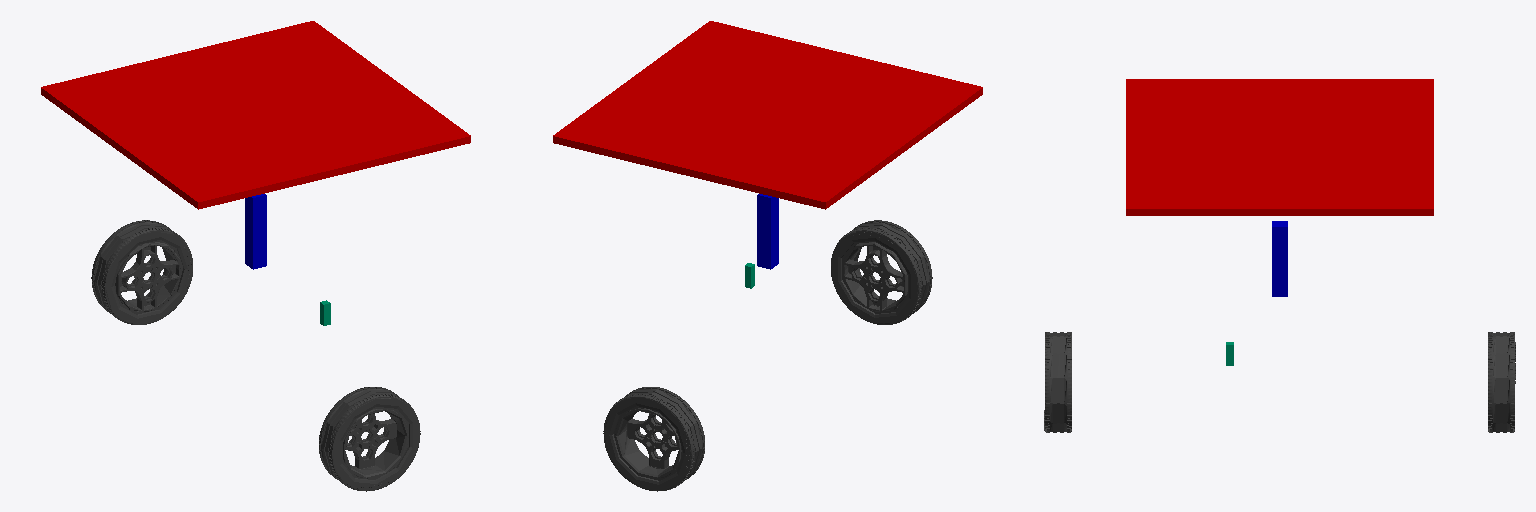
robot.urdf — amazon_robot:
<?xml version="1.0" ?>
<robot name="amazon_robot" xmlns:xacro="http://ros.org/wiki/xacro">
  <!-- <xacro:include filename="$(find turtlebot3_description)/urdf/common_properties.urdf"/>

  <xacro:property name="r200_cam_rgb_px" value="0.005"/>
  <xacro:property name="r200_cam_rgb_py" value="0.018"/>
  <xacro:property name="r200_cam_rgb_pz" value="0.013"/>
  <xacro:property name="r200_cam_depth_offset" value="0.01"/> -->

  <!-- Init colour -->
  <material name="black">
      <color rgba="0.0 0.0 0.0 1.0"/>
  </material>

  <material name="dark">
    <color rgba="0.3 0.3 0.3 1.0"/>
  </material>

  <material name="light_black">
    <color rgba="0.4 0.4 0.4 1.0"/>
  </material>

  <material name="blue">
    <color rgba="0.0 0.0 0.8 1.0"/>
  </material>

  <material name="green">
    <color rgba="0.0 0.8 0.0 1.0"/>
  </material>

  <material name="grey">
    <color rgba="0.5 0.5 0.5 1.0"/>
  </material>

  <material name="orange">
    <color rgba="1.0 0.4235 0.0392 1.0"/>
  </material>

  <material name="brown">
    <color rgba="0.8706 0.8118 0.7647 1.0"/>
  </material>

  <material name="red">
    <color rgba="0.8 0.0 0.0 1.0"/>
  </material>

  <material name="white">
    <color rgba="1.0 1.0 1.0 1.0"/>
  </material>

  <link name="base_footprint"/>

  <joint name="base_joint" type="fixed">
    <parent link="base_footprint"/>
    <child link="base_link" />
    <origin xyz="0 0 0.010" rpy="0 0 0"/>
  </joint>

  <link name="base_link">
    <visual>
      <origin xyz="-0.064 0 0.0" rpy="0 0 0"/>
      <geometry>
        <mesh filename="package://amazon_robot/meshes/bases/waffle_pi_base.stl" scale="1 1 1"/>
      </geometry>
      <material name="orange"/>
    </visual>

    <collision>
      <origin xyz="-0.064 0 0.047" rpy="0 0 0"/>
      <geometry>
        <box size="0.532 0.532 0.188"/>
      </geometry>
    </collision>

    <inertial>
      <origin xyz="0 0 0" rpy="0 0 0"/>
      <mass value="1.3729096e+00"/>
      <inertia ixx="8.7002718e-03" ixy="-4.7576583e-05" ixz="1.1160499e-04"
               iyy="8.6195418e-03" iyz="-3.5422299e-06"
               izz="1.4612727e-02" />
    </inertial>
  </link>

  <joint name="wheel_left_joint" type="continuous">
    <parent link="base_link"/>
    <child link="wheel_left_link"/>
    <origin xyz="0.0 0.288 0.023" rpy="-1.57 0 0"/>
    <axis xyz="0 0 1"/>
  </joint>

  <link name="wheel_left_link">
    <visual>
      <origin xyz="0 0 0" rpy="1.57 0 0"/>
      <geometry>
        <mesh filename="package://amazon_robot/meshes/wheels/left_tire.stl" scale="0.002 0.002 0.002"/>
      </geometry>
      <material name="dark"/>
    </visual>

    <collision>
      <origin xyz="0 0 0" rpy="0 0 0"/>
      <geometry>
        <cylinder length="0.020" radius="0.072"/>
      </geometry>
    </collision>

    <inertial>
      <origin xyz="0 0 0" />
      <mass value="2.8498940e-02" />
      <inertia ixx="1.1175580e-05" ixy="-4.2369783e-11" ixz="-5.9381719e-09"
               iyy="1.1192413e-05" iyz="-1.4400107e-11"
               izz="2.0712558e-05" />
      </inertial>
  </link>

  <joint name="wheel_right_joint" type="continuous">
    <parent link="base_link"/>
    <child link="wheel_right_link"/>
    <origin xyz="0.0 -0.288 0.023" rpy="-1.57 0 0"/>
    <axis xyz="0 0 1"/>
  </joint>

  <link name="wheel_right_link">
    <visual>
      <origin xyz="0 0 0" rpy="1.57 0 0"/>
      <geometry>
        <mesh filename="package://amazon_robot/meshes/wheels/right_tire.stl" scale="0.002 0.002 0.002"/>
      </geometry>
      <material name="dark"/>
    </visual>

    <collision>
      <origin xyz="0 0 0" rpy="0 0 0"/>
      <geometry>
        <cylinder length="0.020" radius="0.072"/>
      </geometry>
    </collision>

    <inertial>
      <origin xyz="0 0 0" />
      <mass value="2.8498940e-02" />
      <inertia ixx="1.1175580e-05" ixy="-4.2369783e-11" ixz="-5.9381719e-09"
               iyy="1.1192413e-05" iyz="-1.4400107e-11"
               izz="2.0712558e-05" />
      </inertial>
  </link>



  <joint name="caster_back_right_joint" type="fixed">
    <parent link="base_link"/>
    <child link="caster_back_right_link"/>
    <origin xyz="-0.268 -0.064 -0.016" rpy="-1.57 0 0"/>
  </joint>

  <link name="caster_back_right_link">
    <collision>
      <origin xyz="0 0.001 0" rpy="0 0 0"/>
      <geometry>
        <box size="0.060 0.018 0.040"/>
      </geometry>
    </collision>

    <inertial>
      <origin xyz="0 0 0" />
      <mass value="0.005" />
      <inertia ixx="0.001" ixy="0.0" ixz="0.0"
               iyy="0.001" iyz="0.0"
               izz="0.001" />
    </inertial>
  </link>

  <joint name="caster_back_left_joint" type="fixed">
    <parent link="base_link"/>
    <child link="caster_back_left_link"/>
    <origin xyz="-0.268 0.064 -0.016" rpy="-1.57 0 0"/>
  </joint>

  <link name="caster_back_left_link">
    <collision>
      <origin xyz="0 0.001 0" rpy="0 0 0"/>
      <geometry>
        <box size="0.060 0.018 0.040"/>
      </geometry>
    </collision>

    <inertial>
      <origin xyz="0 0 0" />
      <mass value="0.005" />
      <inertia ixx="0.001" ixy="0.0" ixz="0.0"
               iyy="0.001" iyz="0.0"
               izz="0.001" />
    </inertial>
  </link>

  <joint name="imu_joint" type="fixed">
    <parent link="base_link"/>
    <child link="imu_link"/>
    <origin xyz="0.0 0 0.136" rpy="0 0 0"/>
  </joint>

  <link name="imu_link"/>

  <joint name="scan_joint" type="fixed">
    <parent link="base_link"/>
    <child link="base_scan"/>
    <origin xyz="-0.064 0 0.244" rpy="0 0 0"/>
  </joint>

  <link name="base_scan">
    <visual>
      <origin xyz="0 0 0.0" rpy="0 0 0"/>
      <geometry>
        <mesh filename="package://amazon_robot/meshes/sensors/lds.stl" scale="0.002 0.002 0.002"/>
      </geometry>
      <material name="dark"/>
    </visual>

    <collision>
      <origin xyz="0.015 0 -0.0065" rpy="0 0 0"/>
      <geometry>
        <cylinder length="0.0315" radius="0.055"/>
      </geometry>
    </collision>

    <inertial>
      <mass value="0.114" />
      <origin xyz="0 0 0" />
      <inertia ixx="0.001" ixy="0.0" ixz="0.0"
               iyy="0.001" iyz="0.0"
               izz="0.001" />
    </inertial>
  </link>


  <joint name="camera_joint" type="fixed">
    <origin xyz="0.064 -0.065 0.094" rpy="0 0 0"/>
    <parent link="base_link"/>
    <child link="camera_link"/>
  </joint>


<link name="link_platform_mid">
    <origin xyz="0 0 0.0" rpy="0 0 0"/>

    <visual>
      <geometry>
        <box size="0.02 0.02 0.10" />
      </geometry>
      <material name="blue"/>
    </visual>
    <collision>
      <geometry>
        <box size="0.02 0.02 0.10" />
      </geometry>
    </collision>

    <inertial>
      <mass value="1"/>
      <inertia
              ixx="1.0" ixy="0.0" ixz="0.0"
              iyy="1.0" iyz="0.0"
              izz="1.0"/>
    </inertial>

  </link>
  <joint name="platform_joint" type="fixed">
    <parent link="base_link" />
    <child link="link_platform_mid" />
    <origin xyz="0.0 0 0.20" rpy="0. 0. 0."/>
  </joint>


  <link name="lift_link">
    <origin xyz="0 0 0.0" rpy="0 0 0"/>

    <visual>
      <geometry>
        <box size="0.40 0.40 0.01" />
      </geometry>
      <material name="red"/>
    </visual>
    <collision>
      <geometry>
        <box size="0.40 0.40 0.01" />
      </geometry>
    </collision>
    <inertial>
      <mass value="1"/>
      <inertia
              ixx="1.0" ixy="0.0" ixz="0.0"
              iyy="1.0" iyz="0.0"
              izz="1.0"/>
    </inertial>
  </link>

  <joint name="lift_joint" type="prismatic" >
  <origin xyz="0 0 0.16" rpy="0. 0. 0."/>
    <child link="lift_link" />
    <parent link="link_platform_mid" />
    <axis xyz="0 0 1" rpy="0 0 0"/>
    <limit effort="10000.0" lower="-0.05" upper="0.24" velocity="0.5"/>
<!--    <inertia ixx="0" ixy="0.0" ixz="1" iyy="0" iyz="0" izz="0"/>-->
  </joint>




  <link name="camera_link">
    <visual>
     <origin xyz="0 0 0" rpy="1.57 0 1.57"/>
      <geometry>
        <box size="0.01 0.03 0.01" />
      </geometry>
    </visual>
    <collision>
      <origin xyz="0.003 0.065 0.007" rpy="0 0 0"/>
      <geometry>
        <box size="0.012 0.132 0.020"/>
      </geometry>
    </collision>

    <!-- This inertial field needs doesn't contain reliable data!! -->
<!--   <inertial>
      <mass value="0.564" />
      <origin xyz="0 0 0" />
      <inertia ixx="0.003881243" ixy="0.0" ixz="0.0"
               iyy="0.000498940" iyz="0.0"
               izz="0.003879257" />
    </inertial>-->
  </link>

  <joint name="camera_rgb_joint" type="fixed">
    <origin xyz="0.005 0.018 0.013" rpy="0 0 0"/>
    <!-- <origin xyz="${r200_cam_rgb_px} ${r200_cam_rgb_py} ${r200_cam_rgb_pz}" rpy="0 0 0"/> -->
    <parent link="camera_link"/>
    <child link="camera_rgb_frame"/>
  </joint>
  <link name="camera_rgb_frame"/>

  <joint name="camera_rgb_optical_joint" type="fixed">
    <origin xyz="0 0 0" rpy="-1.57 0 -1.57"/>
    <parent link="camera_rgb_frame"/>
    <child link="camera_rgb_optical_frame"/>
  </joint>
  <link name="camera_rgb_optical_frame"/>

  <joint name="camera_depth_joint" type="fixed">
    <origin xyz="0.005 0.028 0.013" rpy="-1.57 0 -1.57"/>
    <!-- <origin xyz="${r200_cam_rgb_px} ${r200_cam_rgb_py + r200_cam_depth_offset} ${r200_cam_rgb_pz}" rpy="0 0 0"/> -->
    <parent link="camera_link"/>
    <child link="camera_depth_frame"/>
  </joint>
  <link name="camera_depth_frame"/>

  <joint name="camera_depth_optical_joint" type="fixed">
    <origin xyz="0 0 0" rpy="0 0 0"/>
    <parent link="camera_depth_frame"/>
    <child link="camera_depth_optical_frame"/>
  </joint>
  <link name="camera_depth_optical_frame"/>

</robot>

--- What the picture shows (computed from the rendered views, not written in the file) ---
The picture shows the robot from 3 angles, left to right: view 1: azimuth 30°, elevation 25°; view 2: azimuth 150°, elevation 25°; view 3: azimuth 270°, elevation 25°; orthographic projection.
Model amazon_robot with 15 links and 14 joints (2 continuous, 1 prismatic, 11 fixed), rooted at base_footprint, posed all joints at 0.
Visible links, largest first — view 1: lift_link, wheel_left_link, wheel_right_link, link_platform_mid; view 2: lift_link, wheel_right_link, wheel_left_link, link_platform_mid; view 3: lift_link, wheel_left_link, wheel_right_link, link_platform_mid.
Boxes of the visible links, x1,y1,x2,y2 form: lift_link: (41, 21, 470, 209); wheel_left_link: (91, 220, 192, 324); wheel_right_link: (319, 387, 420, 491); link_platform_mid: (245, 194, 266, 269); lift_link: (553, 21, 982, 209); wheel_right_link: (831, 220, 932, 324); wheel_left_link: (603, 387, 704, 491); link_platform_mid: (757, 194, 778, 269); lift_link: (1126, 79, 1433, 215); wheel_left_link: (1488, 332, 1515, 432); wheel_right_link: (1044, 332, 1071, 432); link_platform_mid: (1272, 221, 1287, 296).
Size in the robot's own frame: 0.4 by 0.6124 by 0.408 metres.
2 mesh visuals loaded from 4 distinct referenced files (2 binary STL); not drawn: 2 (reference not matched to a file when rendering).